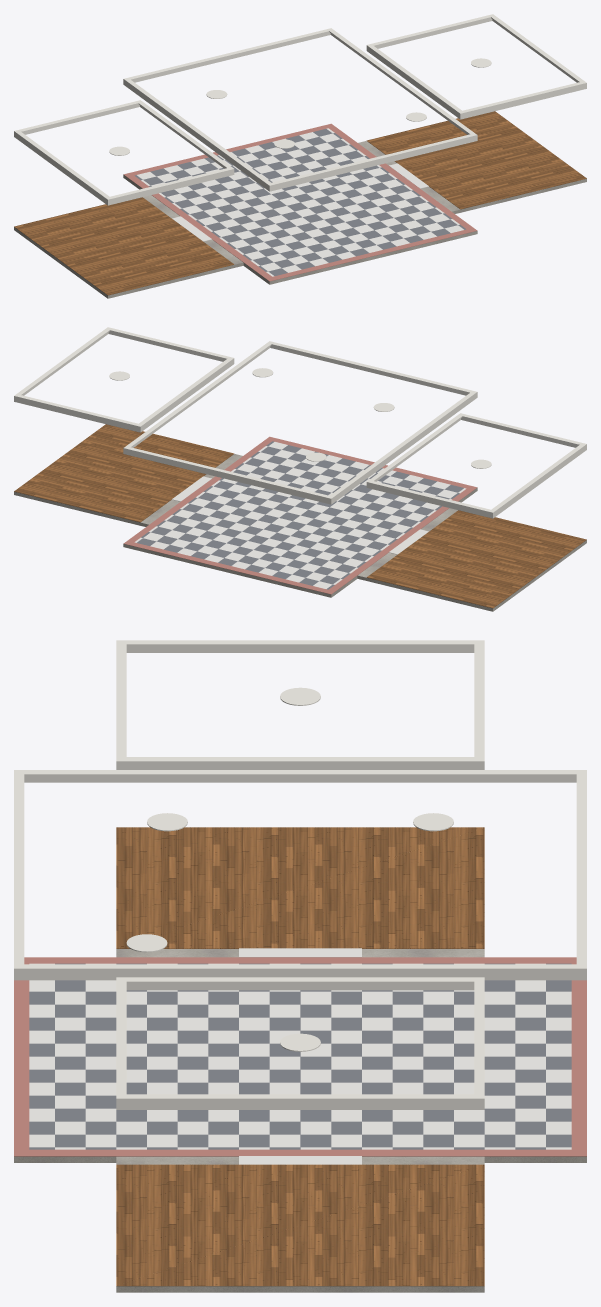
File: floor.glb
3 views of the same model, one above another, from view 1: azimuth 30°, elevation 25°; view 2: azimuth 150°, elevation 25°; view 3: azimuth 270°, elevation 25° (orthographic). The views are drawn at different scales.
Visible parts, largest first — view 1: floor_oak, floor_trim, floor_marble_w, floor_marble_k, floor_marble_r, floor_concrete; view 2: floor_oak, floor_marble_w, floor_trim, floor_marble_k, floor_marble_r, floor_concrete; view 3: floor_oak, floor_trim, floor_marble_w, floor_marble_k, floor_marble_r, floor_concrete.
Part boxes in pixels (x1=…): floor_oak: x1=14, y1=111, x2=586, y2=295; floor_trim: x1=14, y1=14, x2=586, y2=205; floor_marble_w: x1=137, y1=128, x2=463, y2=276; floor_marble_k: x1=134, y1=129, x2=466, y2=275; floor_marble_r: x1=123, y1=123, x2=477, y2=281; floor_concrete: x1=14, y1=141, x2=586, y2=298; floor_oak: x1=14, y1=424, x2=586, y2=608; floor_marble_w: x1=134, y1=442, x2=466, y2=588; floor_trim: x1=14, y1=327, x2=586, y2=518; floor_marble_k: x1=137, y1=441, x2=463, y2=589; floor_marble_r: x1=123, y1=436, x2=477, y2=594; floor_concrete: x1=14, y1=454, x2=586, y2=611; floor_oak: x1=116, y1=827, x2=484, y2=1286; floor_trim: x1=14, y1=640, x2=586, y2=1109; floor_marble_w: x1=29, y1=948, x2=571, y2=1164; floor_marble_k: x1=29, y1=963, x2=571, y2=1149; floor_marble_r: x1=14, y1=957, x2=586, y2=1156; floor_concrete: x1=14, y1=949, x2=586, y2=1292.
Bounding box in the file's own units: 21.2 × 4.19 × 11.2.
6 materials, 2 textured.
